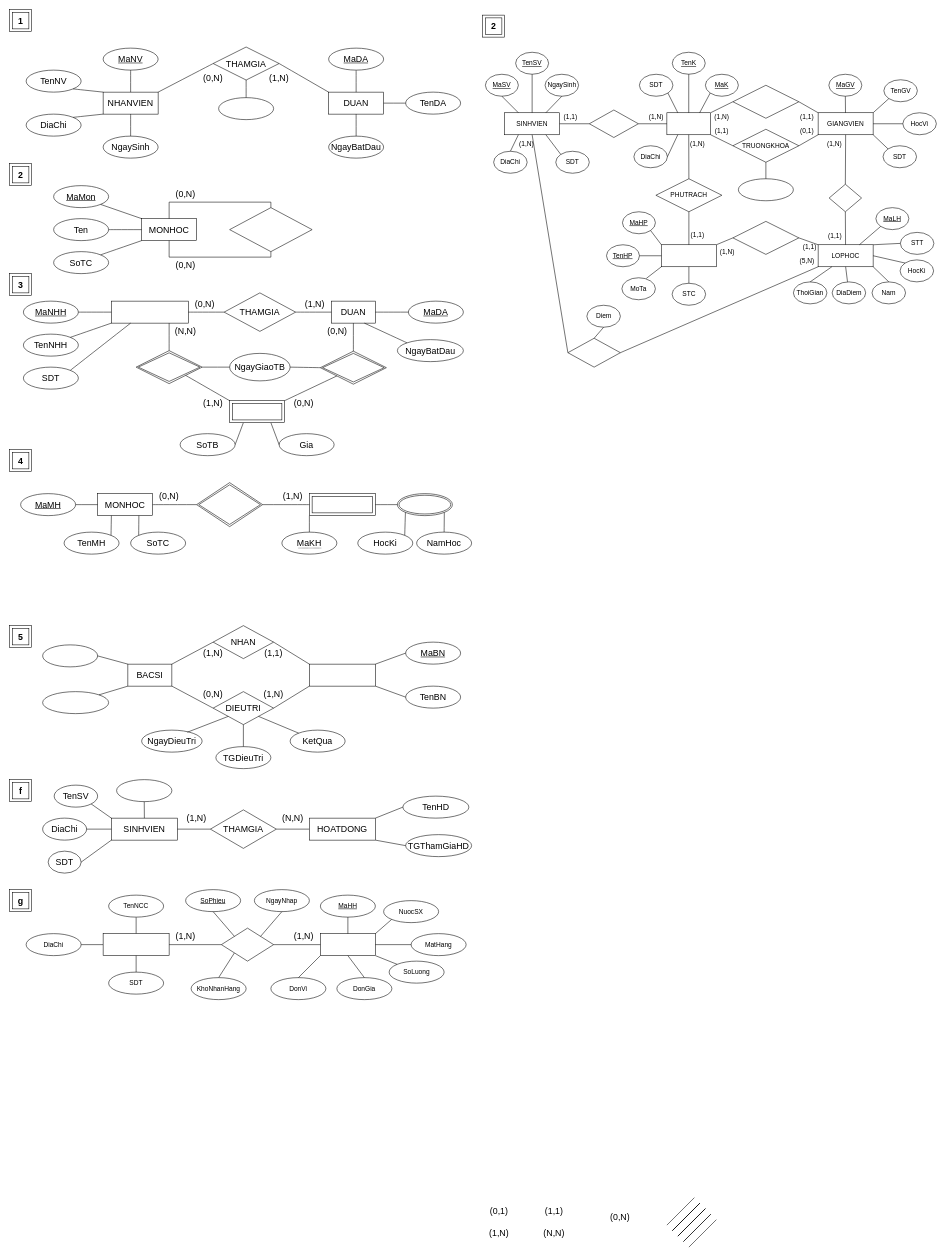
This 946x1257 diagram has some shape labels left out. Here are the shapes that lost their labels. From the top down, the centre of each, then its label:
At point (246, 108): "Luong".
At point (765, 101): "LAMVIEC".
At point (613, 123): "THUOC".
At point (688, 123): "KHOA".
At point (765, 189): "NgayBoNhiem".
At point (845, 198): "DAY".
At point (270, 229): "TIENQUYET".
At point (765, 237): "LIENQUAN".
At point (688, 255): "HOCPHAN".
At point (149, 312): "NHAHOAHOC".
At point (169, 367): "SOHUU".
At point (353, 367): "SUDUNG".
At point (593, 352): "DANGKI".
At point (257, 411): "THIETBI".
At point (229, 504): "LENLICH".
At point (342, 504): "KHOAHOC".
At point (424, 504): "SoHK".
At point (70, 655): "MaBS".
At point (342, 675): "BENHNHAN".
At point (75, 702): "ChuyenMon".
At point (144, 790): "NamSinh".
At point (136, 944): "NHACUNGCAP".
At point (247, 944): "CUNGCAP".
At point (347, 944): "HANGHOA".
